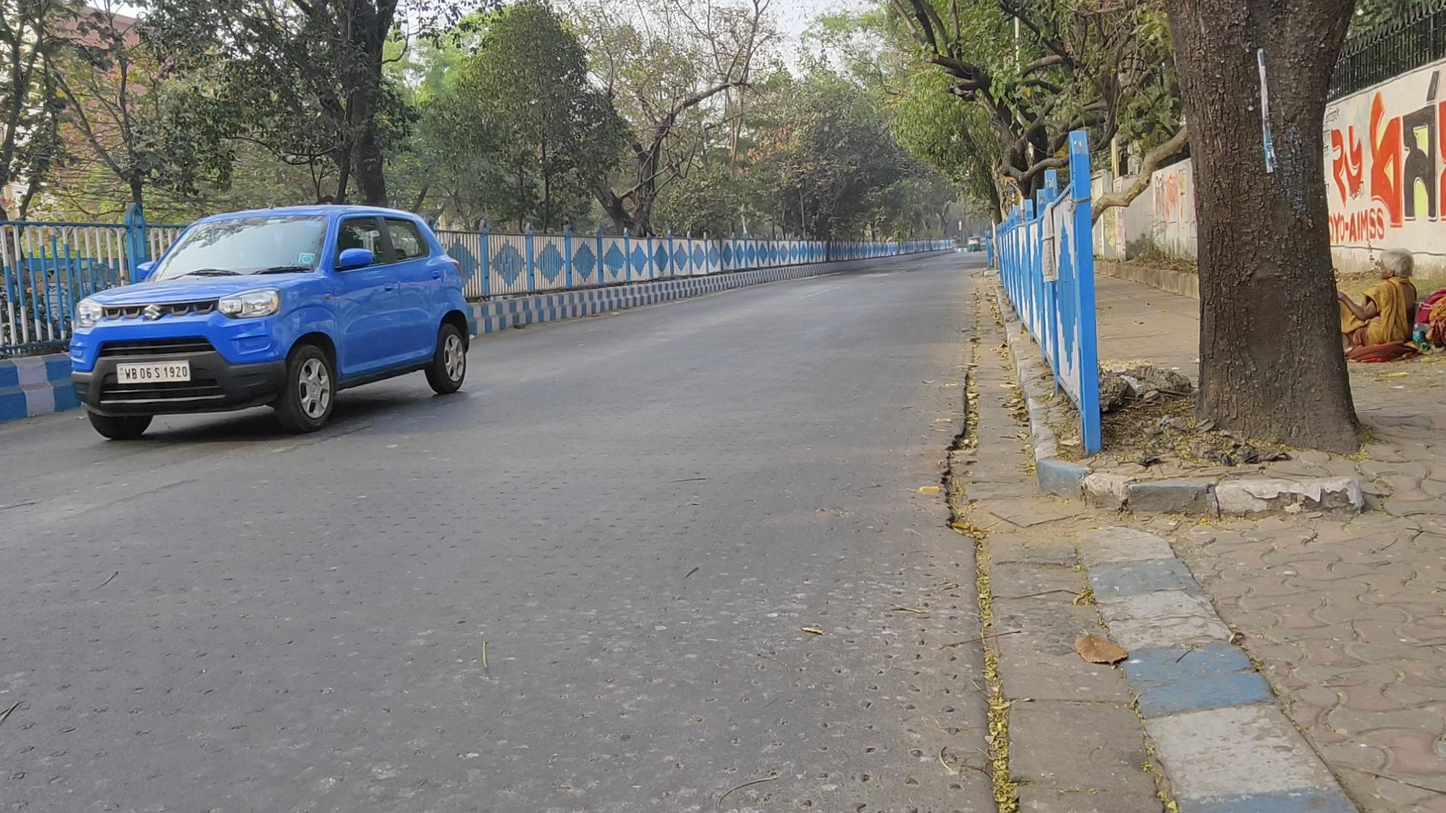car: (70, 202, 469, 441)
